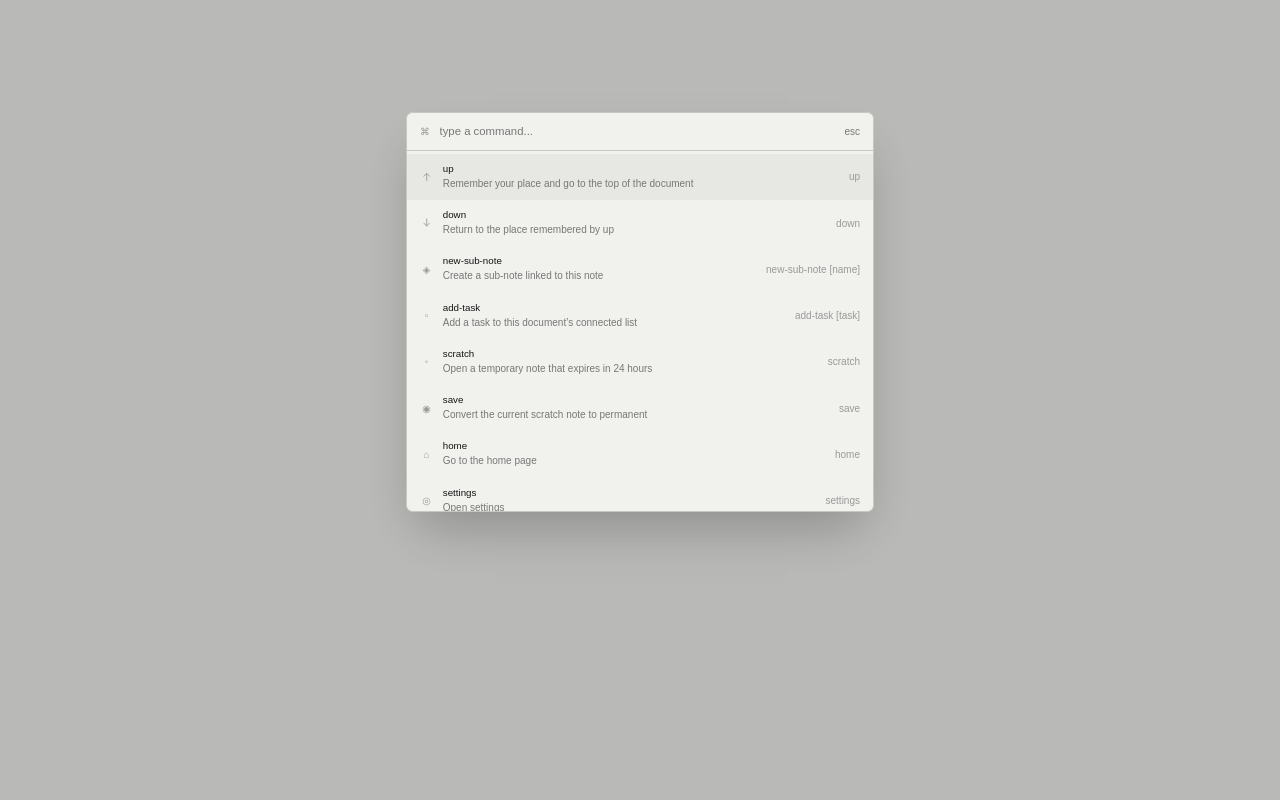
Test: command palette workflows › returns an error when down is used before up
In the field with placeholder "type a command...": point(637, 131) [440, 123, 835, 139], type "down"
Then press Enter
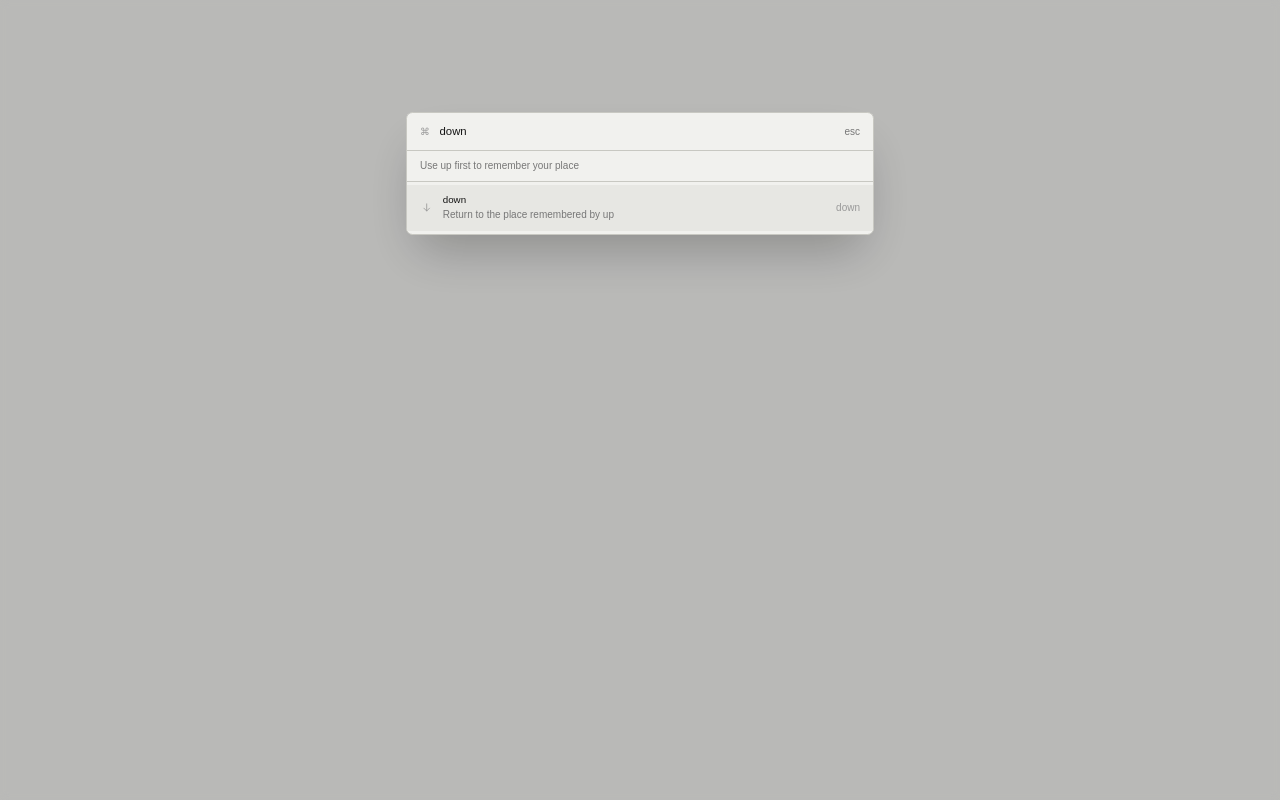
Result: the text "Use up first to remember your place" is shown at [407, 150, 873, 182]
